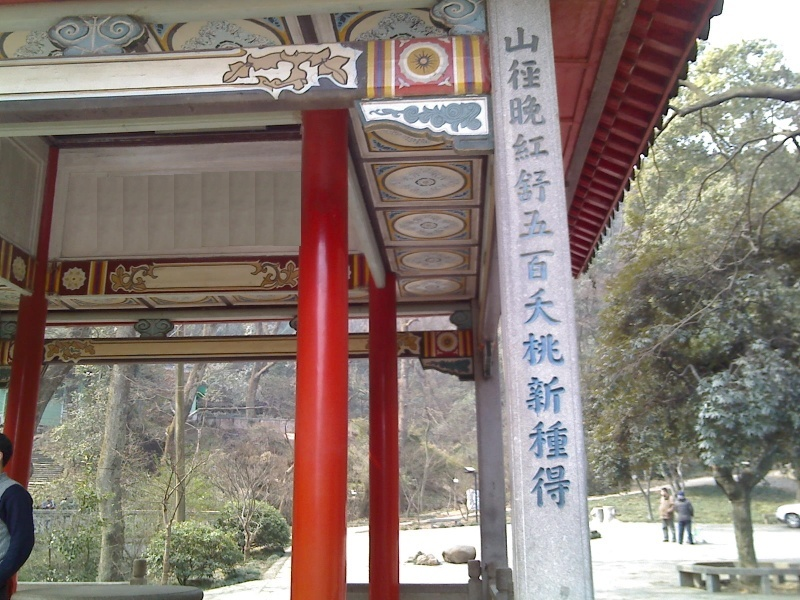text: (513, 27, 528, 515), (529, 27, 544, 515), (545, 27, 560, 515), (561, 27, 575, 515), (502, 27, 512, 515)
